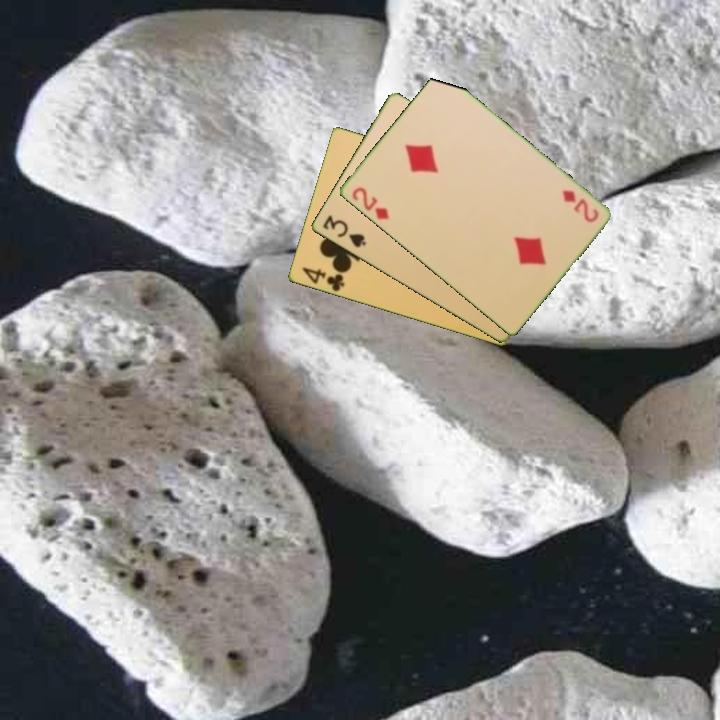2d: (348, 184, 392, 223), (558, 186, 601, 225)
3s: (319, 212, 369, 251)
4c: (298, 264, 347, 294)
